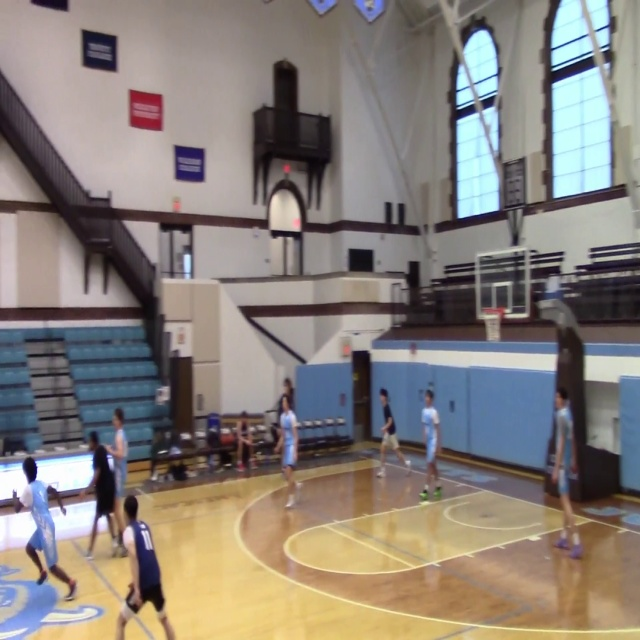Basketball: (419, 491, 428, 500)
